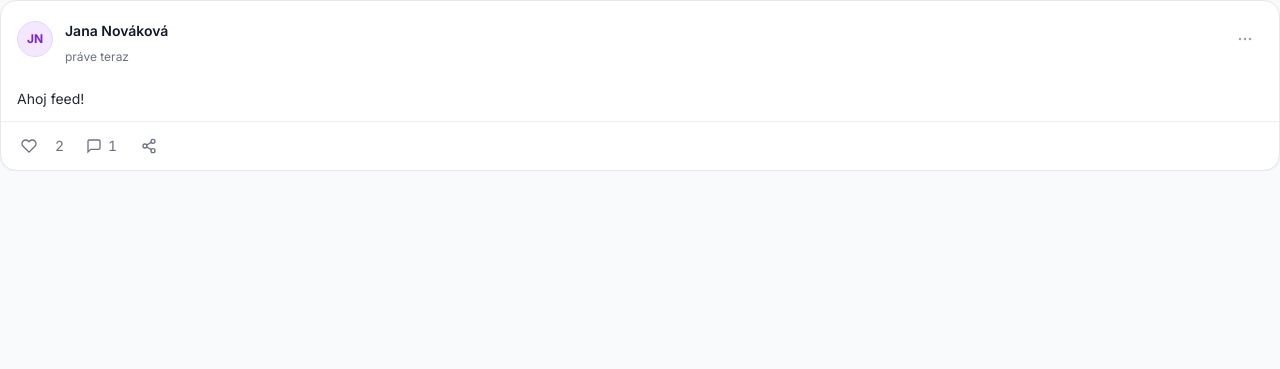
Test: FeedPostCard – komentáre › shows an empty-state message when there are no comments
The image size is (1280, 369).
Click the button with test id "feed-comments-button" at (102, 146), box [78,128,125,164]
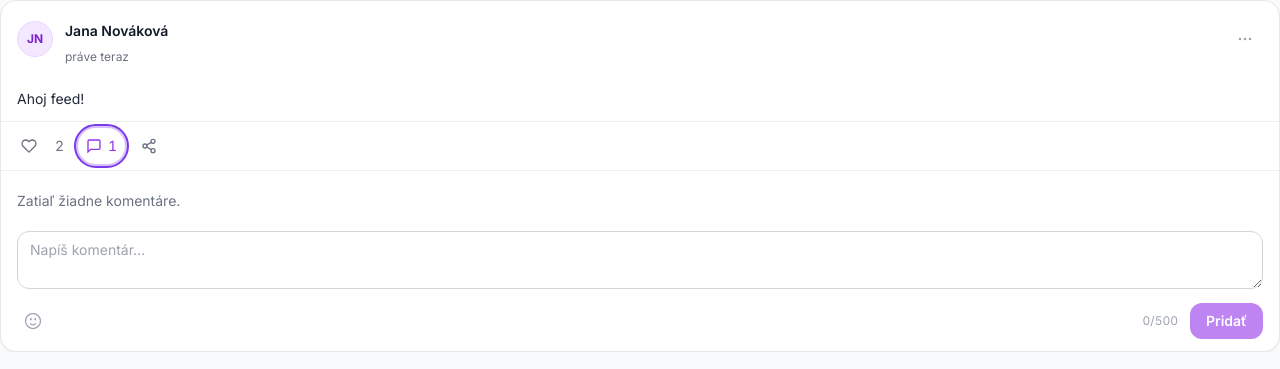
Expected: the text with test id "feed-comments-empty" reads "Zatiaľ žiadne komentáre.", [17,192,180,209]
